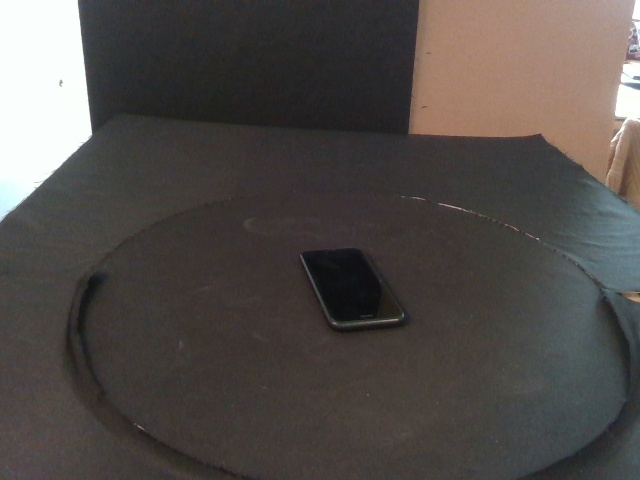phone: (299, 247, 406, 331)
